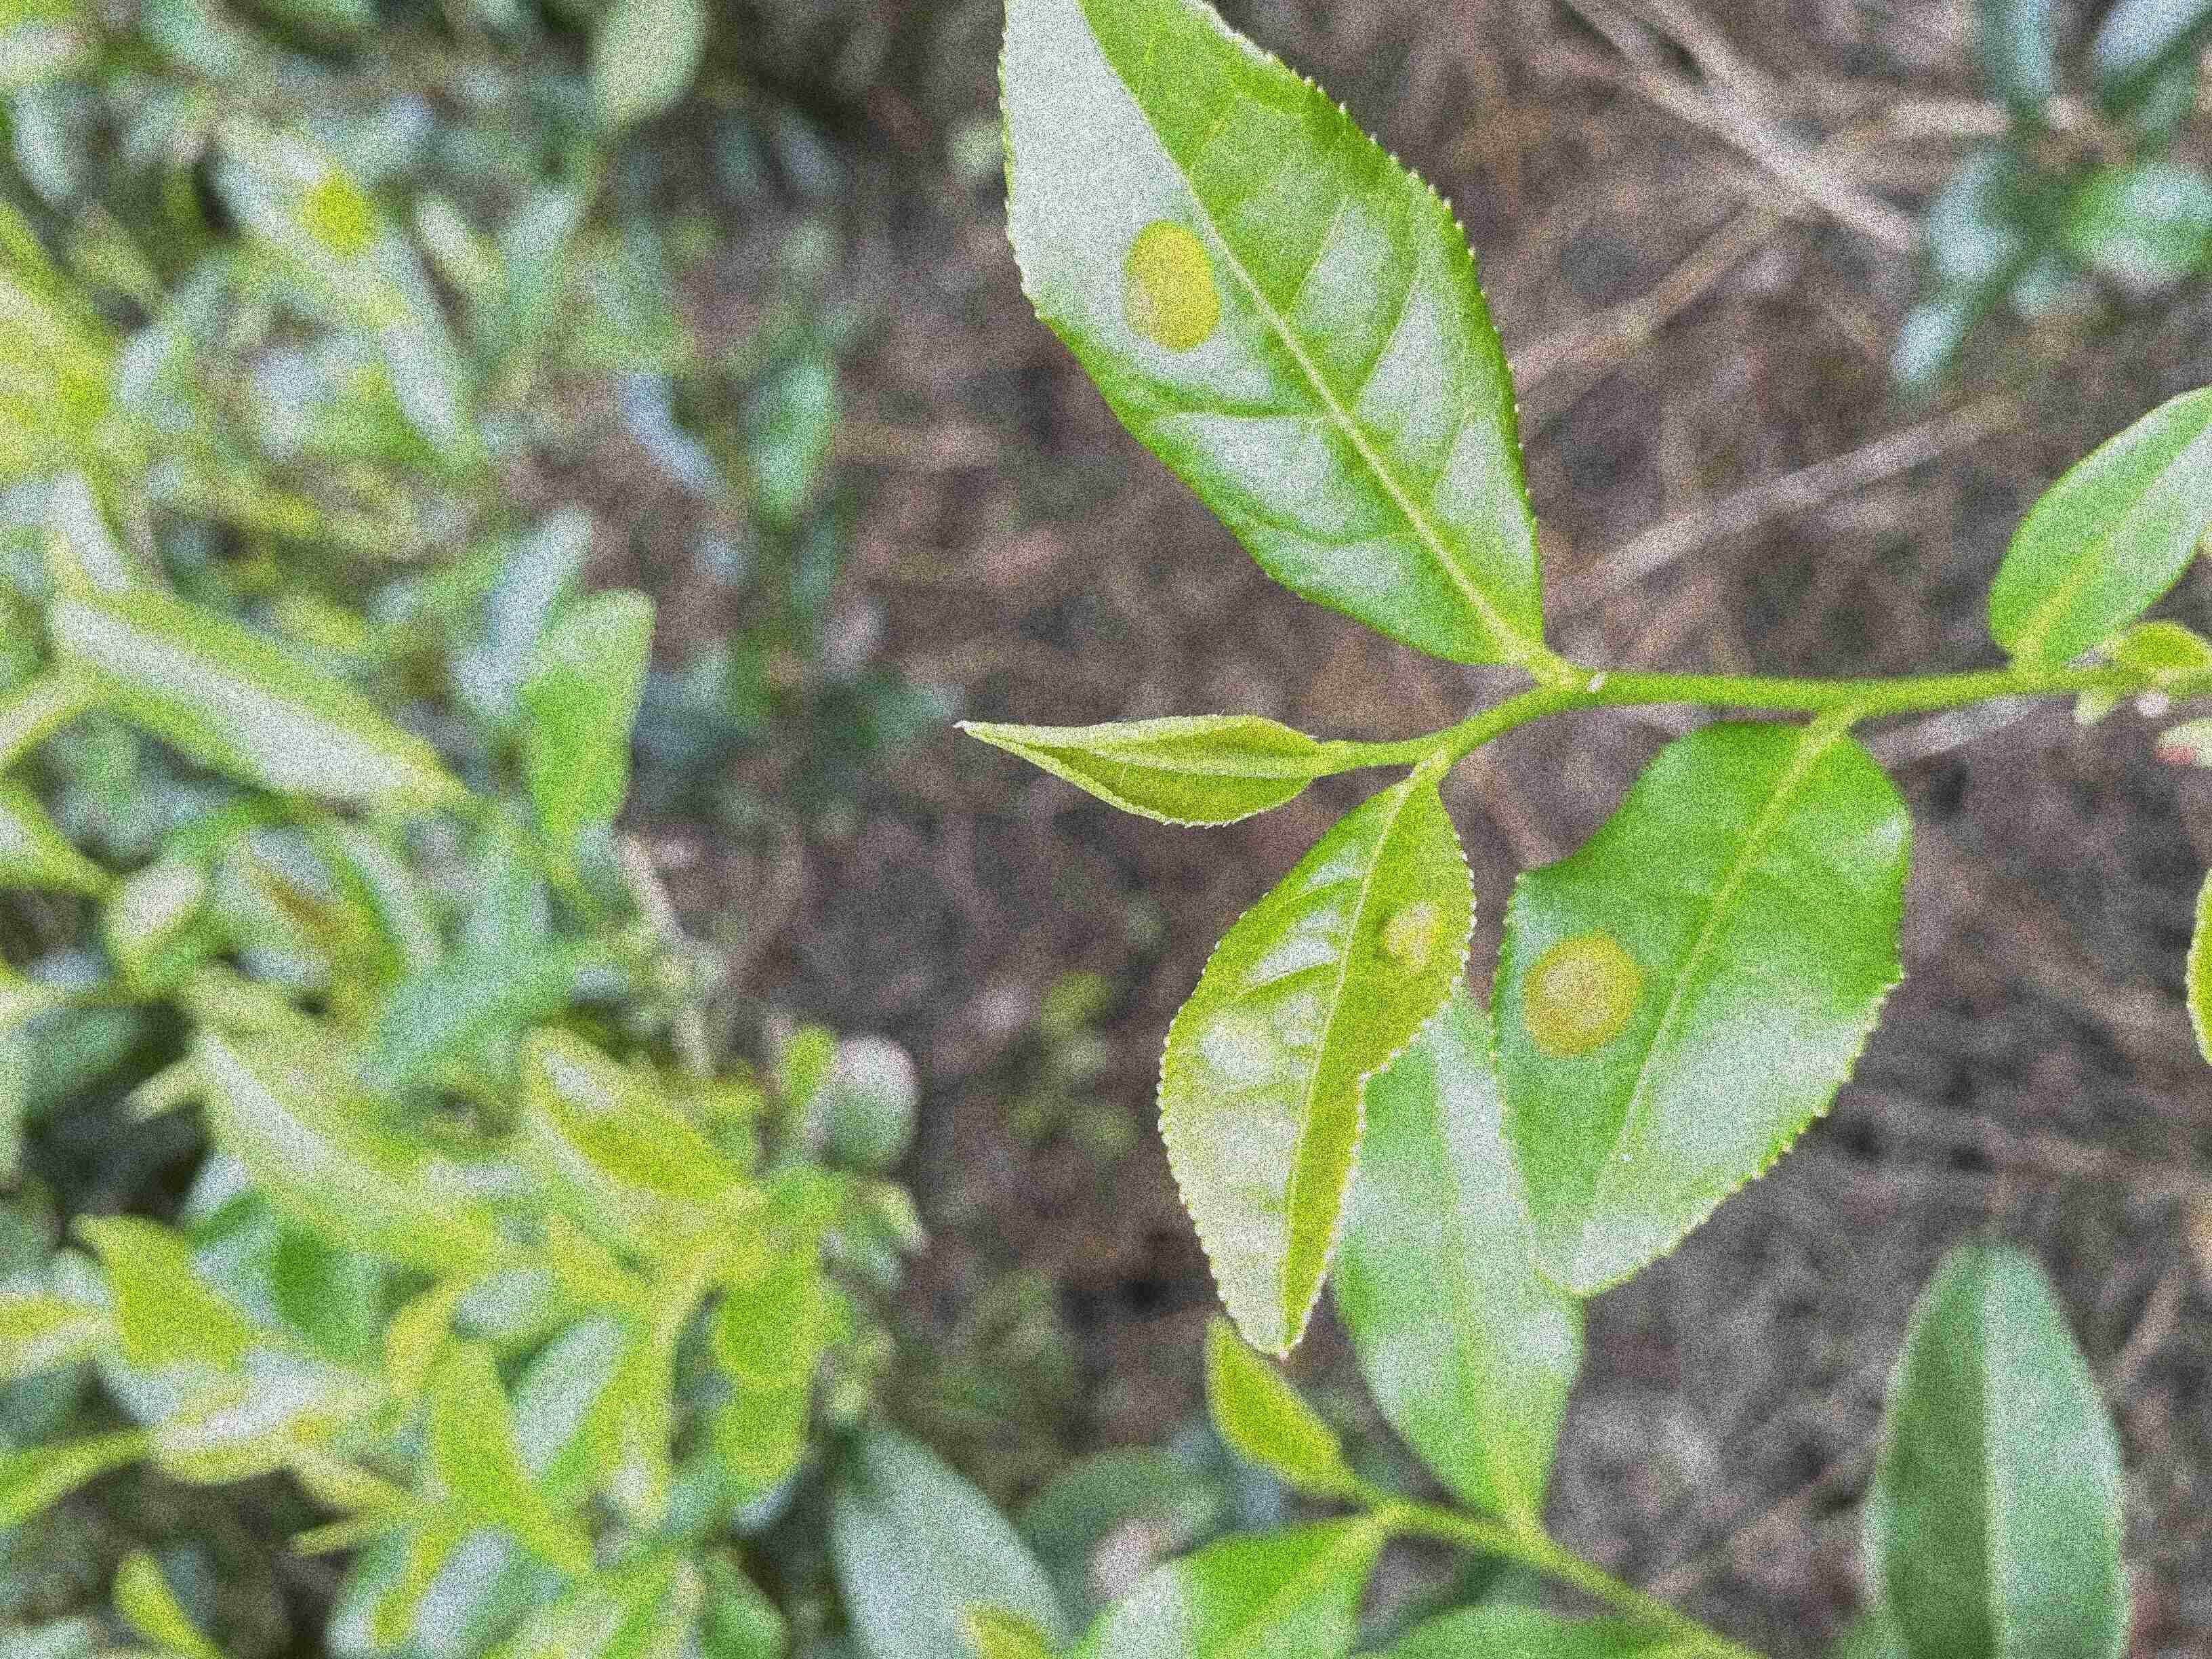chabing_high: (1157, 775, 1477, 1352)
chabing_low: (988, 0, 1547, 671), (1487, 714, 1912, 1297)
